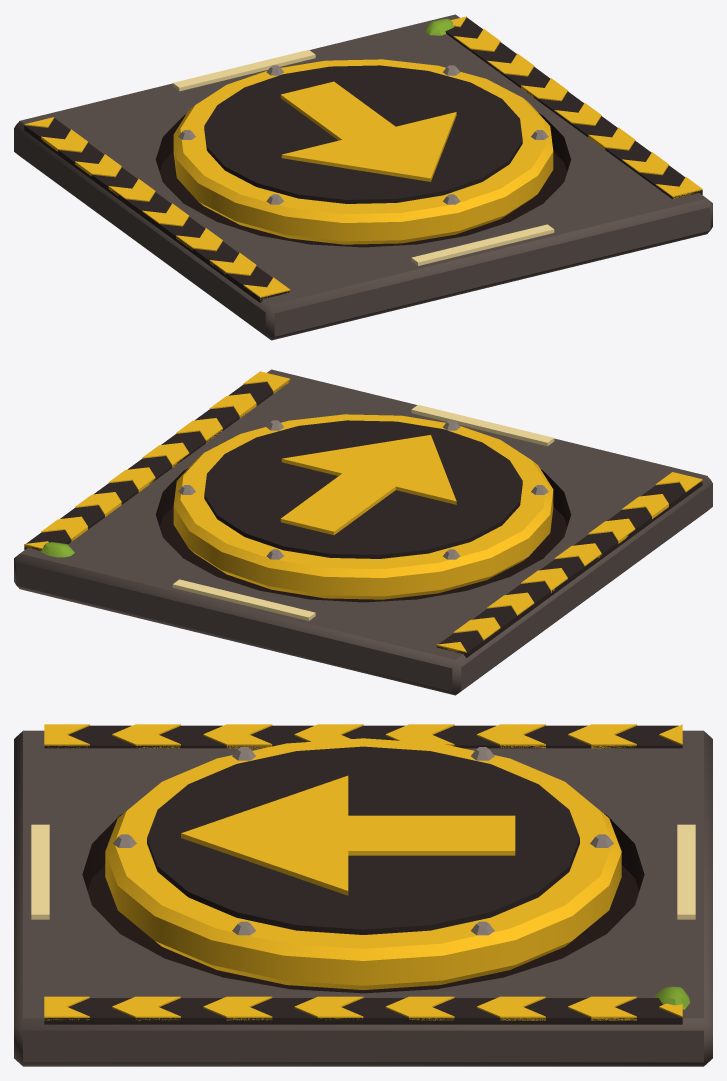
Rendered from trap_bumper__upper.glb.
The picture shows the model from 3 angles, top to bottom: view 1: azimuth 30°, elevation 25°; view 2: azimuth 150°, elevation 25°; view 3: azimuth 270°, elevation 25°; orthographic projection. The views are drawn at different scales.
Parts seen in each view (by area): view 1: Base, Pad; view 2: Base, Pad; view 3: Base, Pad.
Boxes of the visible parts, box(x1,y1,x2,y2) form: Base: box(14, 14, 712, 340); Pad: box(173, 59, 553, 244); Base: box(14, 369, 712, 695); Pad: box(173, 414, 553, 599); Base: box(14, 724, 712, 1066); Pad: box(105, 738, 621, 990).
Bounding box in the file's own units: 0.92 × 0.13 × 0.92.
